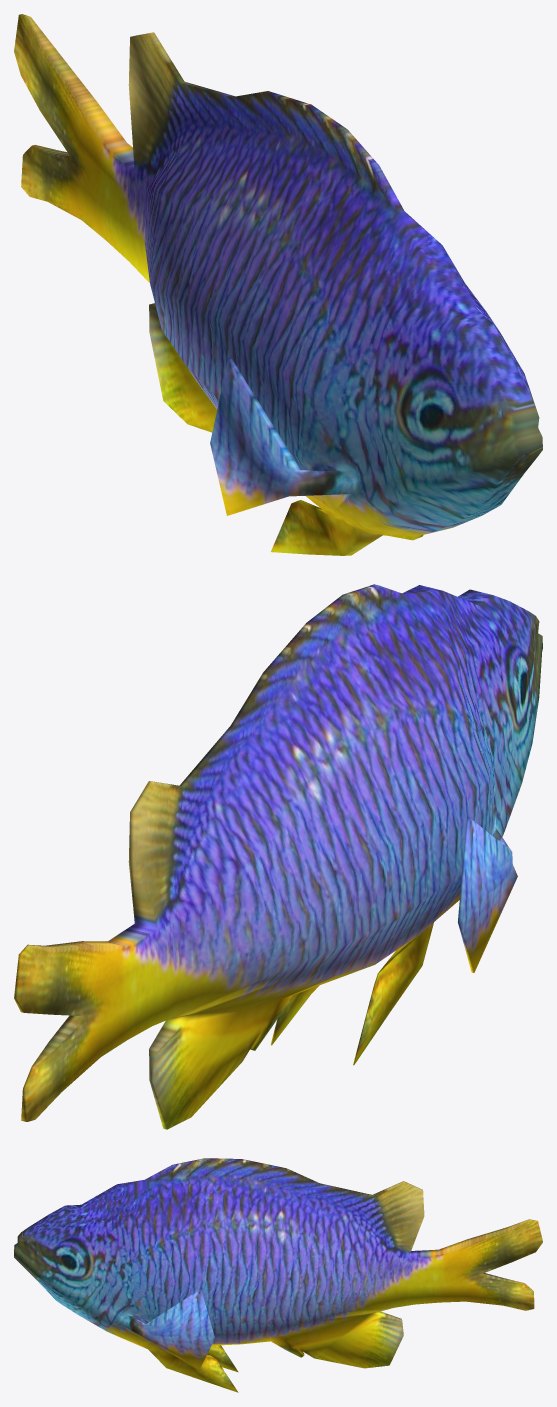
File: TropicalFish07.gltf
The picture shows the model from 3 angles, top to bottom: view 1: azimuth 30°, elevation 25°; view 2: azimuth 150°, elevation 25°; view 3: azimuth 270°, elevation 25°; orthographic projection. The views are drawn at different scales.
Parts seen in each view (by area): view 1: TropicalFish07; view 2: TropicalFish07; view 3: TropicalFish07.
Boxes of the visible parts, x1,y1,x2,y2 form: TropicalFish07: [14, 14, 542, 555]; TropicalFish07: [14, 584, 542, 1129]; TropicalFish07: [14, 1158, 542, 1392].
Size of the model in its own units: 129 by 215 by 461.
1 material, 1 textured.
